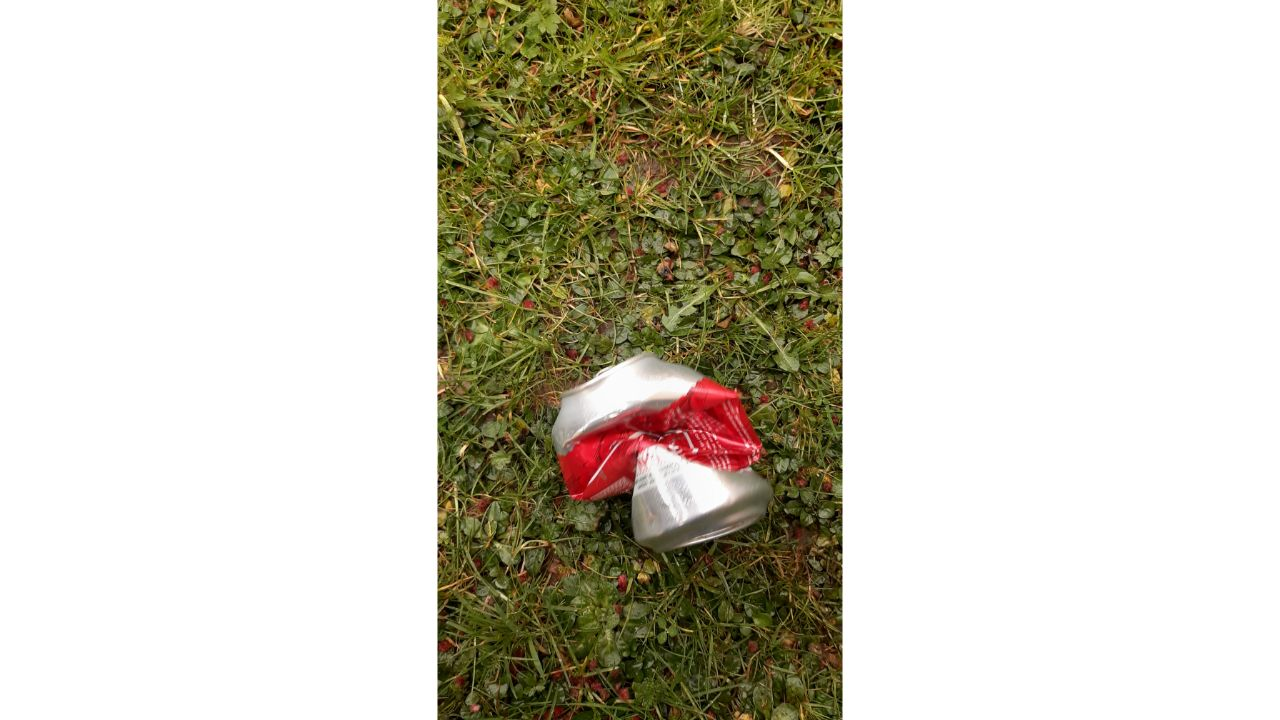Can: (549, 350, 774, 554)
